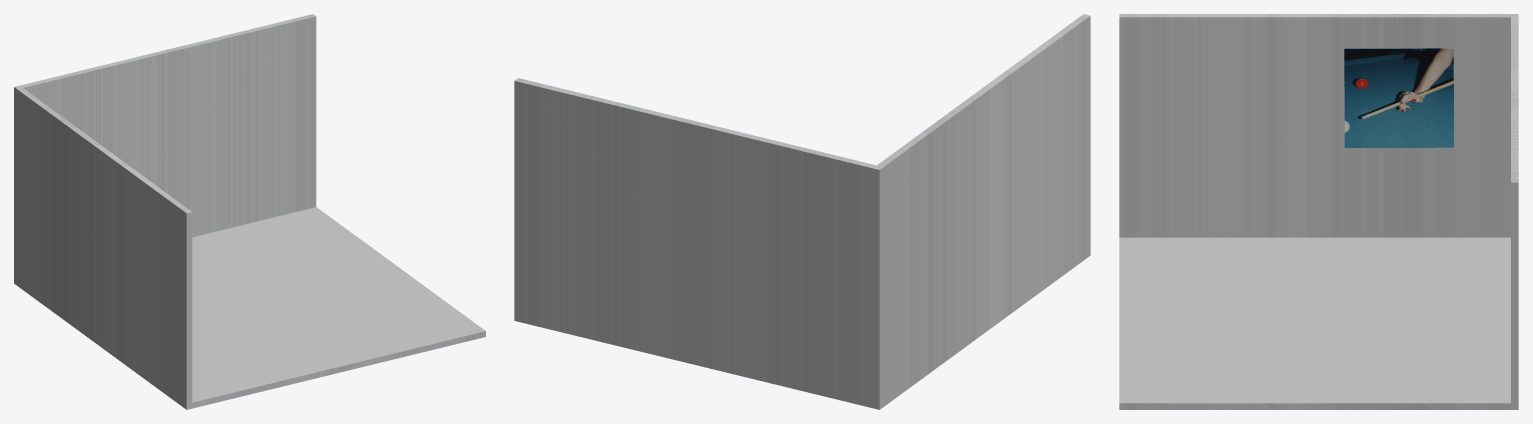
The model's file is room.obj.
3 views of the same model, side by side, from view 1: azimuth 30°, elevation 25°; view 2: azimuth 150°, elevation 25°; view 3: azimuth 270°, elevation 25° (orthographic). The views are drawn at different scales.
Visible parts, largest first — view 1: Plane_Plane.001; view 2: Plane_Plane.001; view 3: Plane_Plane.001, Plane.001_Plane.002.
Part boxes in pixels (x1,y1,x2,y2): Plane_Plane.001: (14,14,485,409); Plane_Plane.001: (514,14,1090,409); Plane_Plane.001: (1119,14,1518,409); Plane.001_Plane.002: (1344,48,1453,147).
Size of the model in its own units: 9.98 by 6.27 by 9.98.
